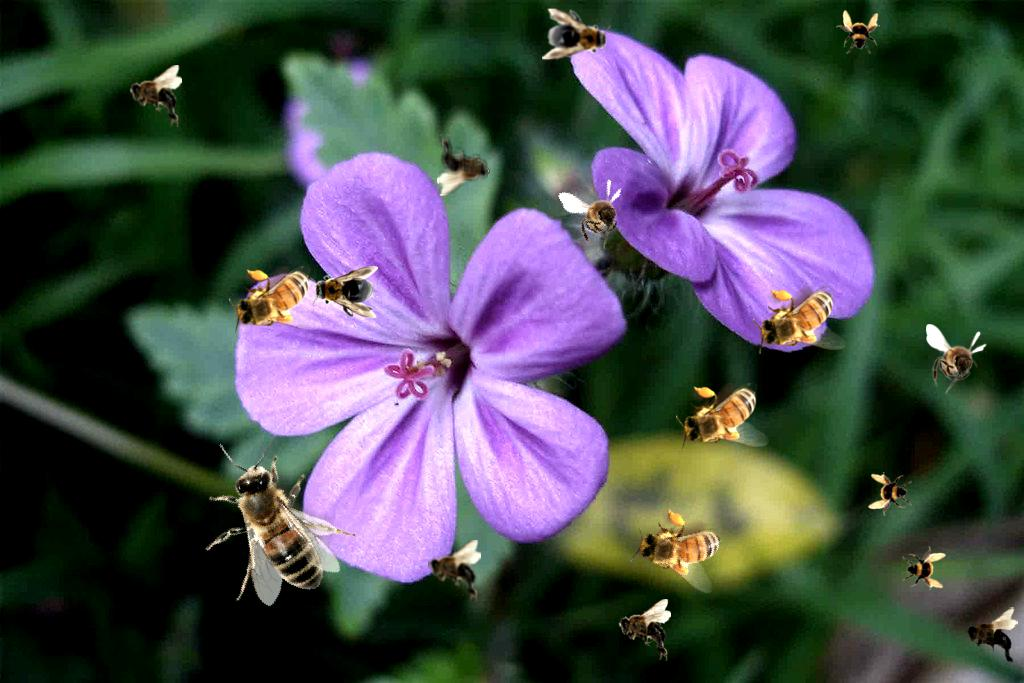Bee: (162, 415, 381, 635), (624, 497, 738, 600), (557, 169, 642, 259), (676, 383, 769, 451), (229, 266, 322, 334), (753, 286, 846, 354), (926, 324, 987, 394), (542, 7, 614, 65), (310, 266, 378, 318), (437, 134, 490, 196), (965, 607, 1018, 669), (618, 599, 671, 661), (129, 65, 182, 127), (428, 540, 481, 602), (868, 472, 912, 516), (902, 546, 946, 590), (836, 10, 880, 54)
